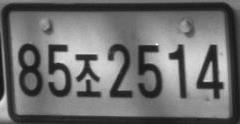1: (167, 43, 193, 99)
2: (107, 42, 133, 98)
4: (195, 44, 224, 99)
5: (137, 44, 163, 99), (47, 43, 72, 97)
8: (17, 42, 43, 97)
조: (74, 53, 101, 98)
